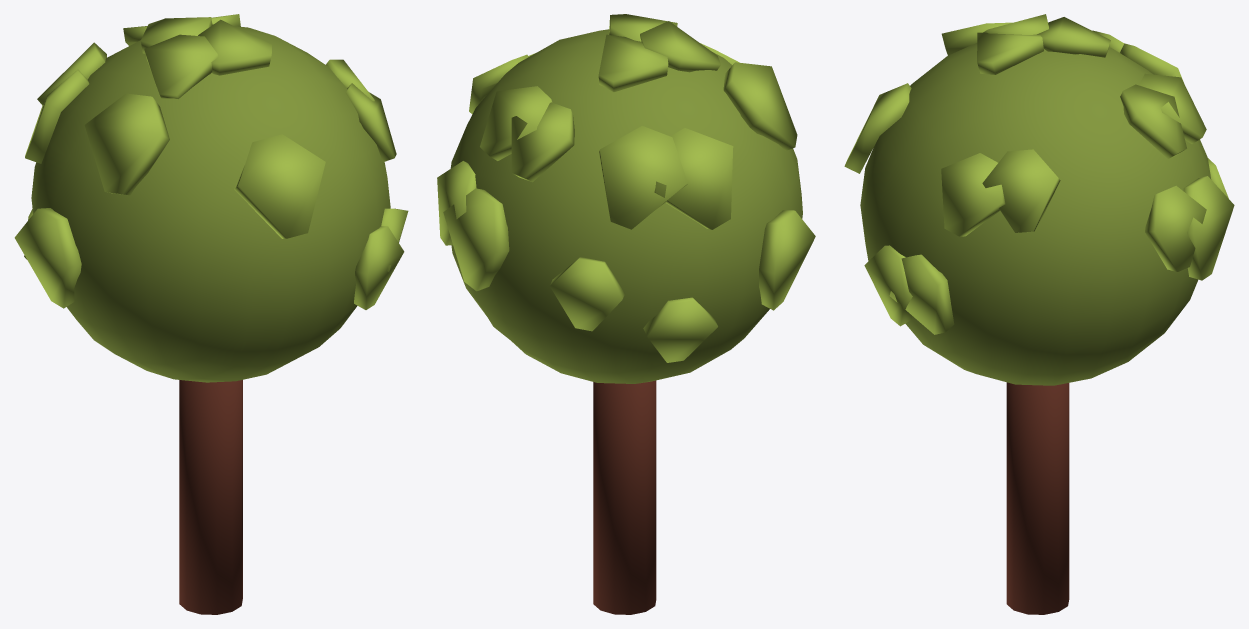
File: treeModel.glb
3 renders of one model, left to right at view 1: azimuth 30°, elevation 25°; view 2: azimuth 150°, elevation 25°; view 3: azimuth 270°, elevation 25°, orthographic.
Visible parts, largest first — view 1: Roundcube.028, Circle.025, Plane.298, Plane.285, Plane.293, Plane.292, Plane.291, Plane.299, Plane.284, Plane.296, Plane.290, Plane.283 (+2 smaller); view 2: Roundcube.028, Circle.025, Plane.283, Plane.284, Plane.286, Plane.285, Plane.293, Plane.294, Plane.289, Plane.295, Plane.288, Plane.290 (+4 smaller); view 3: Roundcube.028, Circle.025, Plane.297, Plane.296, Plane.287, Plane.286, Plane.288, Plane.300, Plane.299, Plane.298, Plane.291, Plane.289 (+4 smaller).
Boxes of the visible parts, box(x1,y1,x2,y2) form: Roundcube.028: box(31, 24, 390, 382); Circle.025: box(179, 380, 242, 614); Plane.298: box(234, 134, 325, 238); Plane.285: box(84, 93, 169, 195); Plane.293: box(14, 208, 81, 308); Plane.292: box(144, 34, 218, 98); Plane.291: box(198, 19, 271, 75); Plane.299: box(354, 226, 404, 309); Plane.284: box(25, 69, 89, 163); Plane.296: box(345, 83, 396, 162); Plane.290: box(140, 17, 212, 53); Plane.283: box(37, 42, 106, 105); Roundcube.028: box(450, 29, 802, 383); Circle.025: box(593, 380, 656, 614); Plane.283: box(599, 126, 687, 229); Plane.284: box(654, 128, 733, 229); Plane.286: box(443, 188, 509, 291); Plane.285: box(723, 62, 797, 150); Plane.293: box(759, 210, 815, 310); Plane.294: box(550, 257, 624, 331); Plane.289: box(511, 102, 574, 182); Plane.295: box(643, 297, 717, 362); Plane.288: box(480, 86, 552, 160); Plane.290: box(598, 34, 668, 91); Roundcube.028: box(860, 43, 1211, 385); Circle.025: box(1006, 382, 1069, 614); Plane.297: box(982, 149, 1060, 232); Plane.296: box(941, 153, 1005, 236); Plane.287: box(1145, 185, 1206, 271); Plane.286: box(1183, 176, 1234, 280); Plane.288: box(1120, 84, 1186, 158); Plane.300: box(889, 254, 954, 334); Plane.299: box(864, 245, 912, 326); Plane.298: box(844, 83, 911, 173); Plane.291: box(977, 32, 1043, 74); Plane.289: box(1139, 73, 1206, 143).
Bounding box in the file's own units: 0.9743 × 1.61 × 1.
